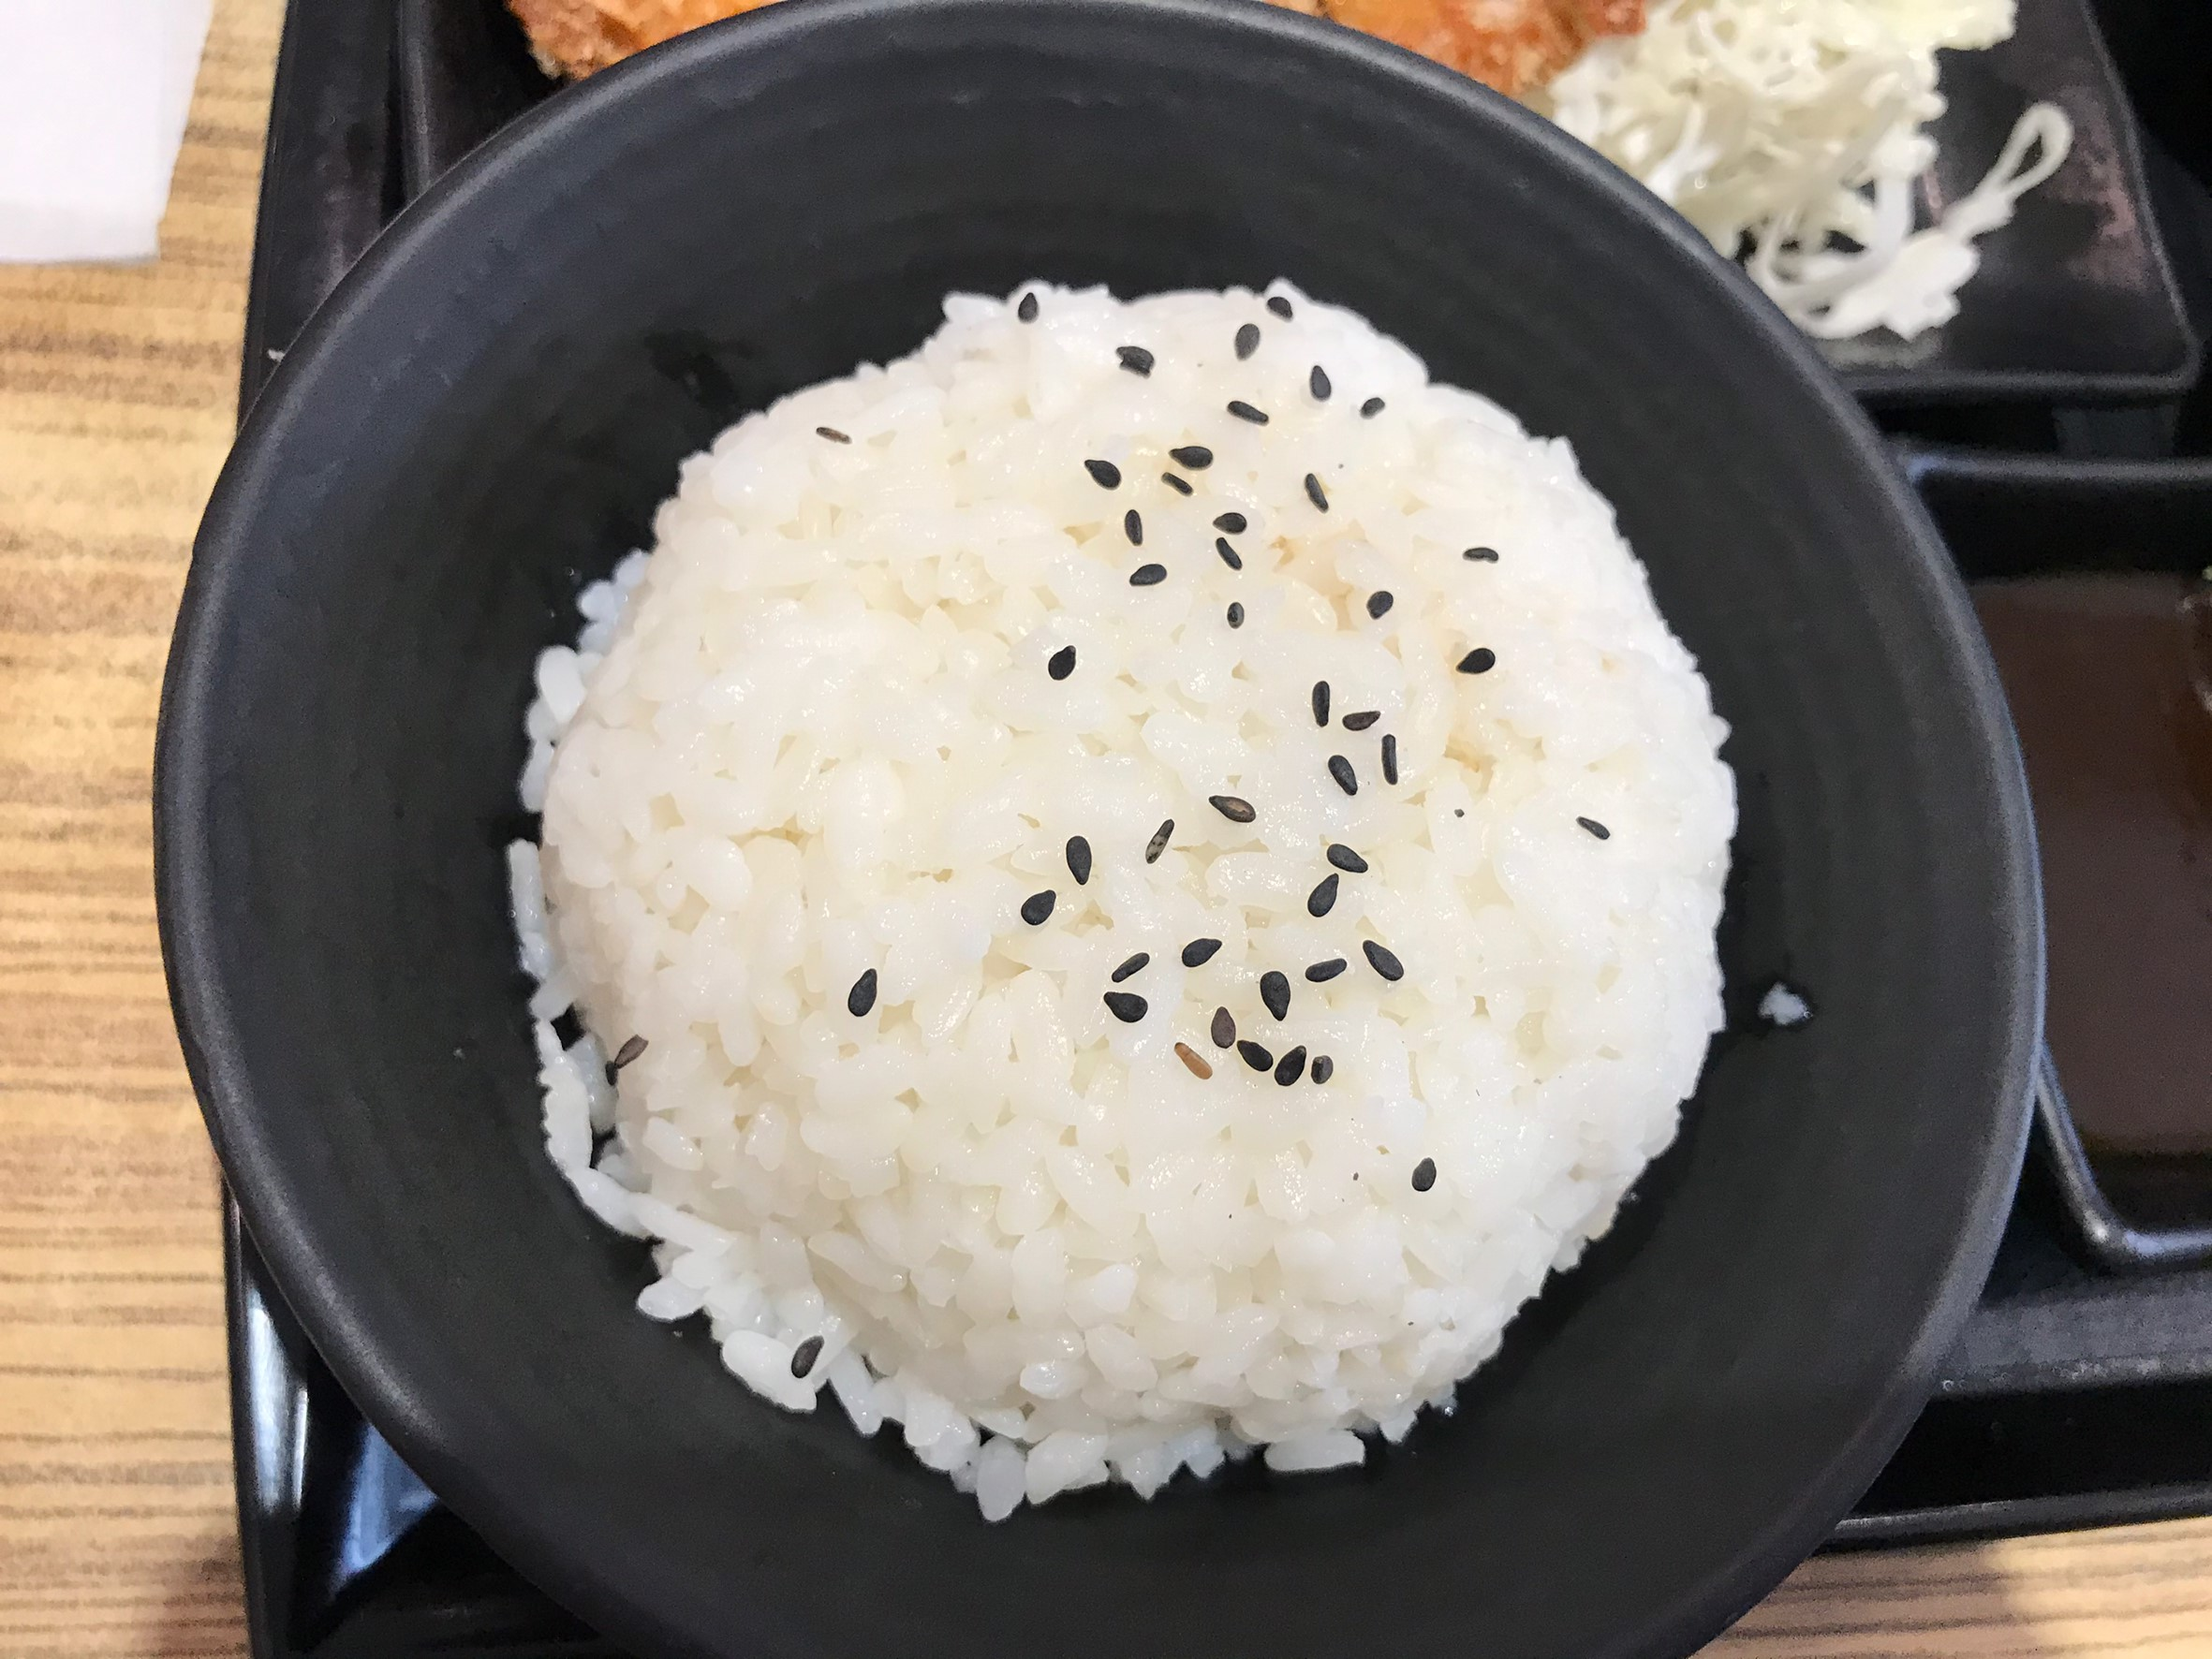rice: (514, 275, 1727, 1518)
